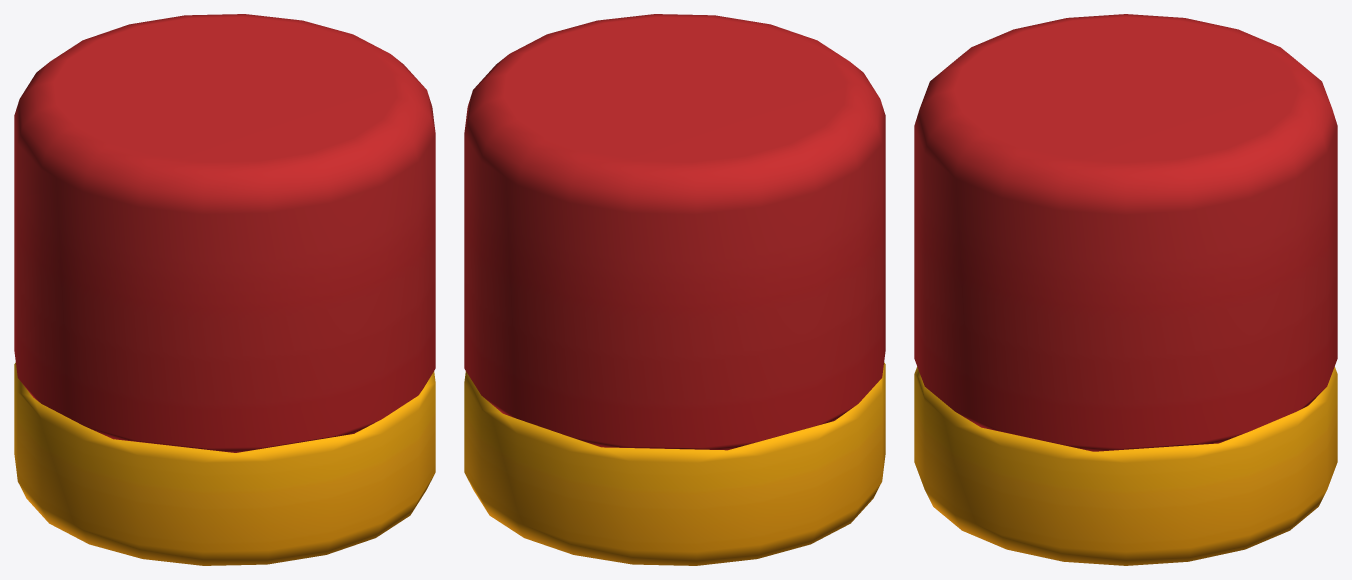
Rendered from Pouf_03.glb.
3 views of the same model, side by side, from view 1: azimuth 30°, elevation 25°; view 2: azimuth 150°, elevation 25°; view 3: azimuth 270°, elevation 25° (orthographic).
Parts seen in each view (by area): view 1: Pouf_03; view 2: Pouf_03; view 3: Pouf_03.
Boxes of the visible parts, x1,y1,x2,y2 form: Pouf_03: [14, 14, 435, 565]; Pouf_03: [464, 14, 885, 565]; Pouf_03: [914, 14, 1337, 565].
Bounding box in the file's own units: 0.443 × 0.4605 × 0.443.
1 material, 1 textured.
